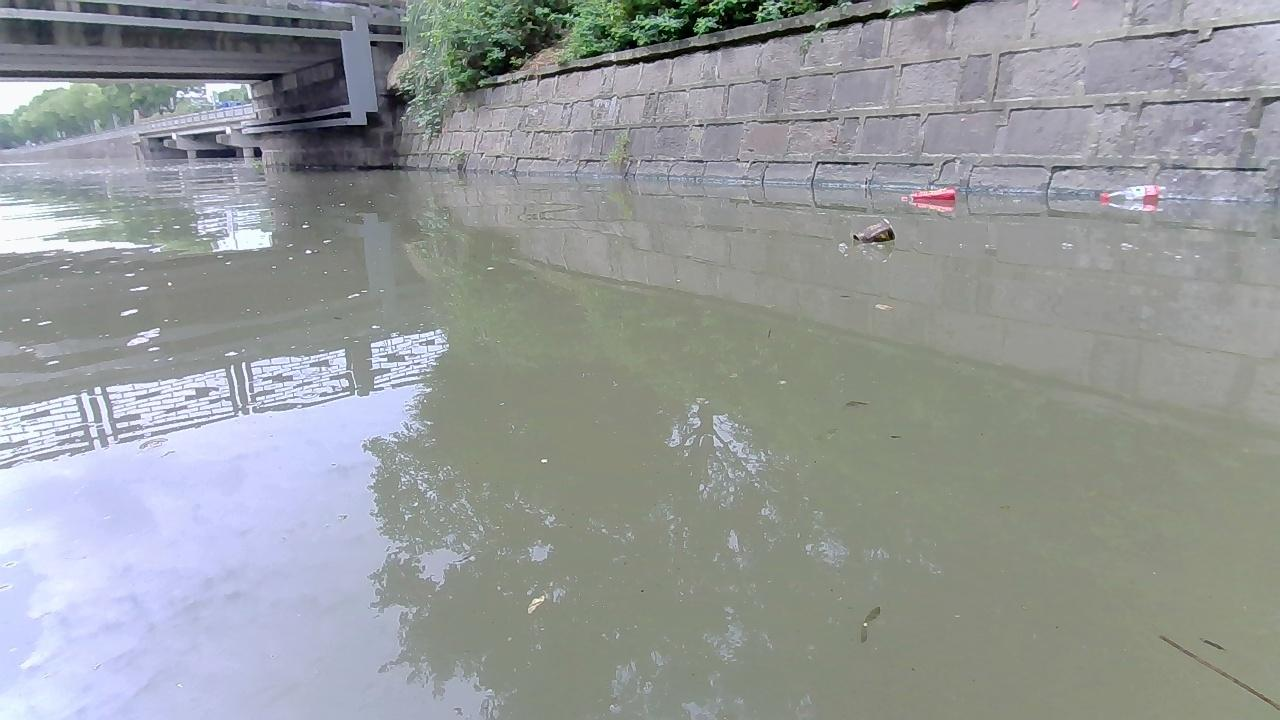bottle: (1099, 181, 1171, 213), (897, 186, 961, 207), (851, 216, 894, 245)
